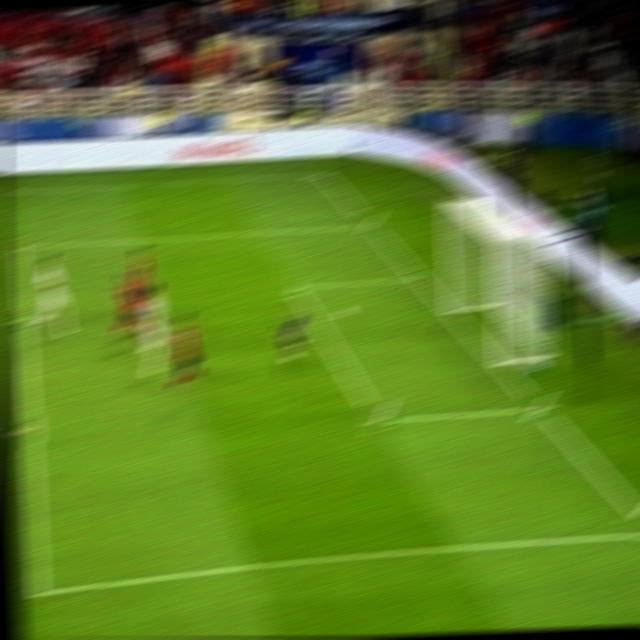bigarea_bottom_inner: (21, 574, 56, 608)
bigarea_top_inner: (7, 235, 30, 257)
bigarea_top_outter: (356, 213, 382, 230)
bottom_arc_area_intersection: (14, 418, 43, 445)
corner: (310, 165, 337, 180)
smallarea_bottom_inner: (362, 400, 395, 434)
smallarea_bottom_outter: (523, 391, 553, 419)
smallarea_top_inner: (286, 276, 313, 299)
smallarea_top_outter: (404, 265, 431, 286)
top_arc_area_intersection: (9, 305, 37, 329)
